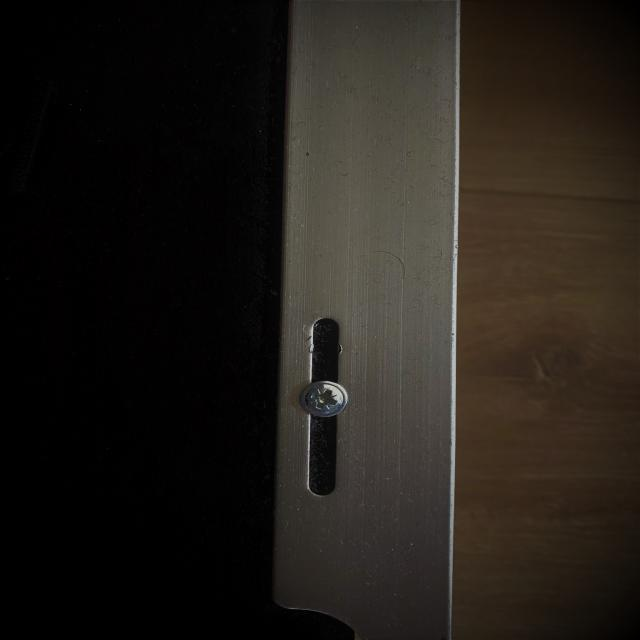PhillipsScrewHead: (298, 380, 351, 418)
